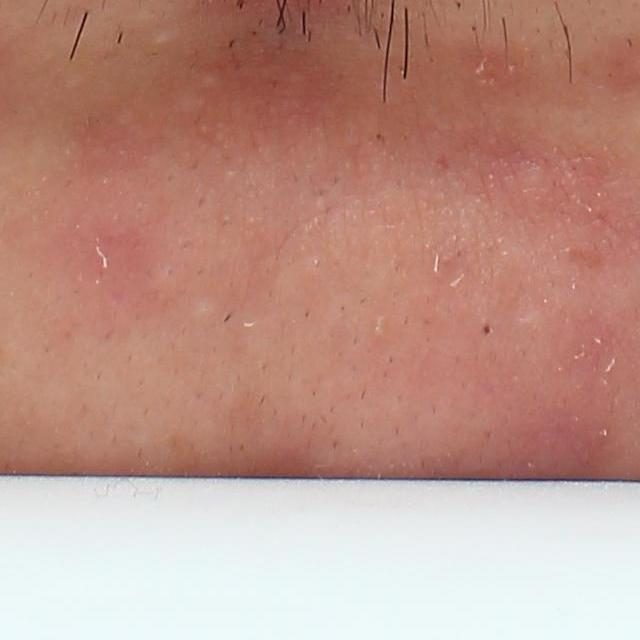comedo: (479, 320, 497, 342)
hypertrophic_scar: (148, 265, 181, 307), (191, 298, 221, 326), (153, 28, 180, 43)
